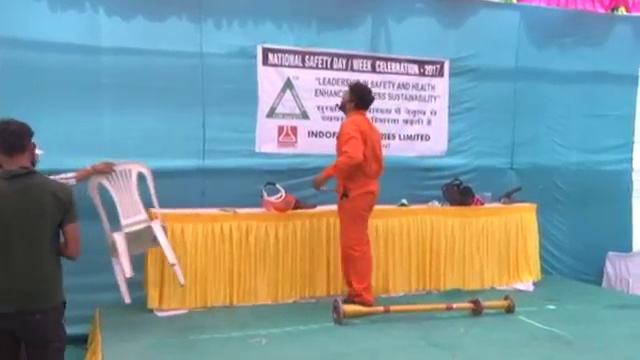helmet_off: (1, 116, 38, 178), (336, 82, 375, 115)
person: (1, 115, 92, 360), (312, 81, 386, 306)
